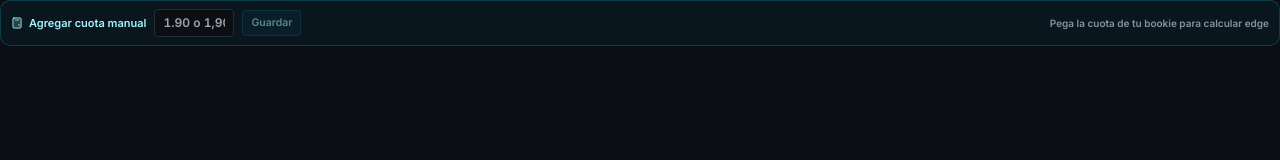
match_card_hides_unknown_when_manual_odds_exists
Type "1.64" into the field with test id "inline-manual-odds-input-field" at (194, 23), box [154,9,234,37]
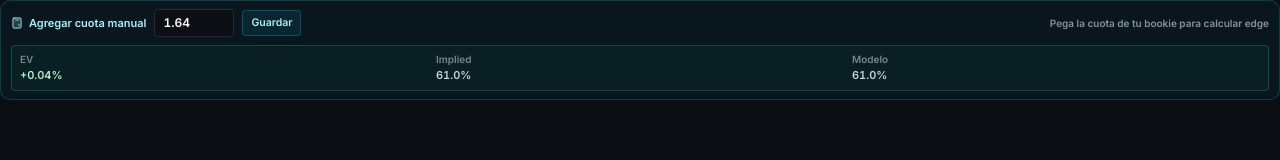
Click the button with test id "inline-manual-odds-input-submit" at (272, 23), box [242,10,301,36]
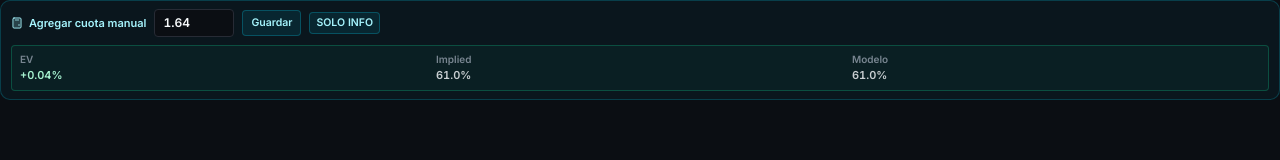
expect the text with test id "inline-manual-odds-input-decision" does not show "desconocido": met, box [310,12,380,34]
expect the text "SOLO INFO" is shown: met, box [310,12,380,34]
